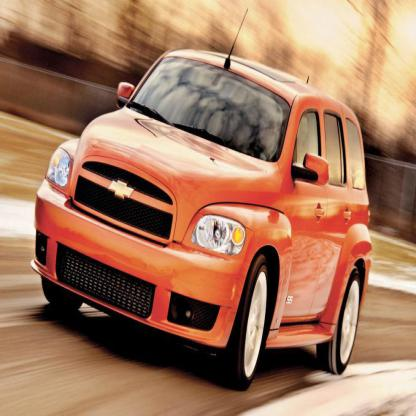Vehicle: (29, 10, 374, 394)
